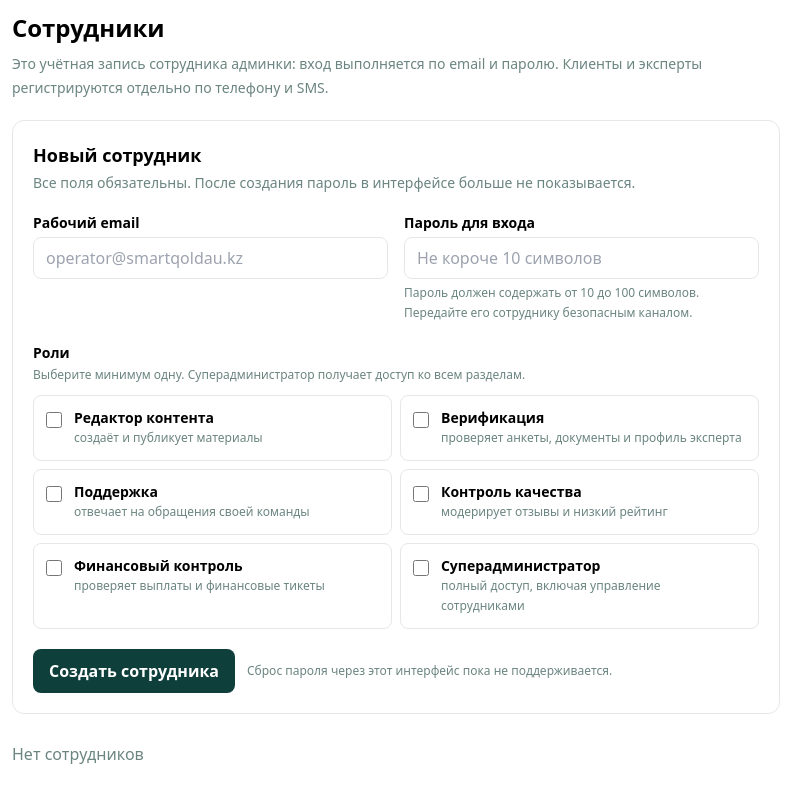
StaffPage › сообщает об успешном создании, если обновление списка не удалось, без повтора POST
Expected: the text "Нет сотрудников" is shown, [12,743,144,765]
Type "new@b.kz" into the field labelled "Рабочий email".
click(210, 258); type("new@b.kz")  # box [33,237,388,279]
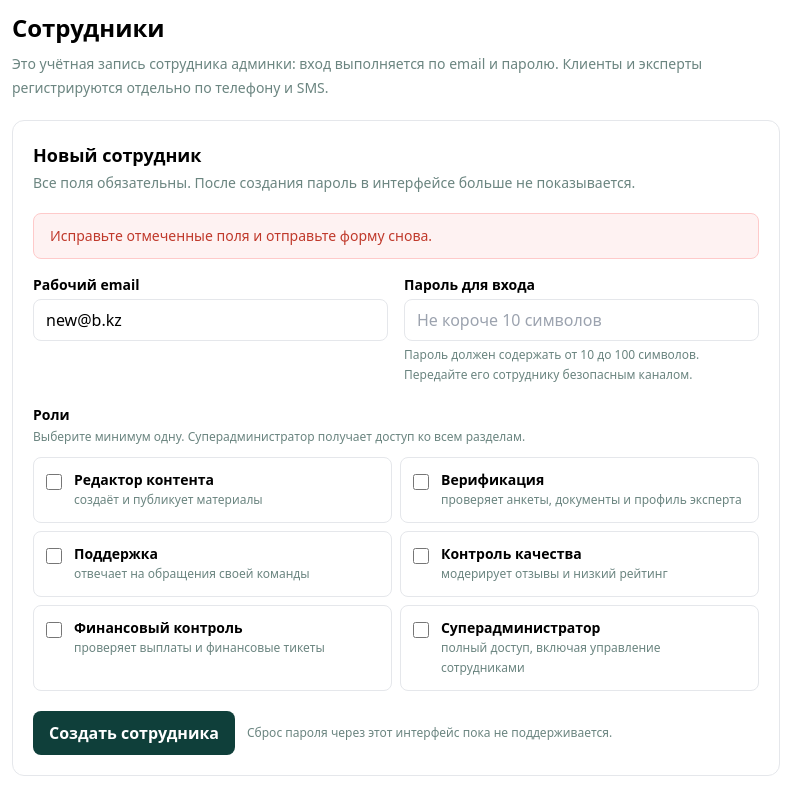
Type "0123456789" into the password field labelled "Пароль для входа".
click(582, 320); type("0123456789")  # box [404,299,759,341]
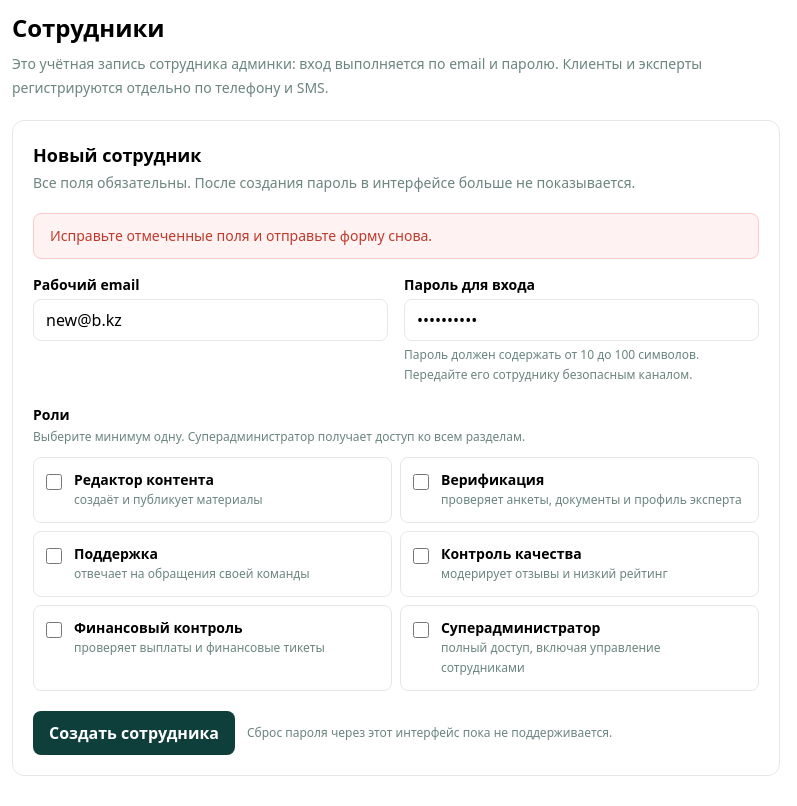
Click the checkbox labelled "Поддержка отвечает на обращения своей команды".
click(54, 556)  # box [46,548,62,564]
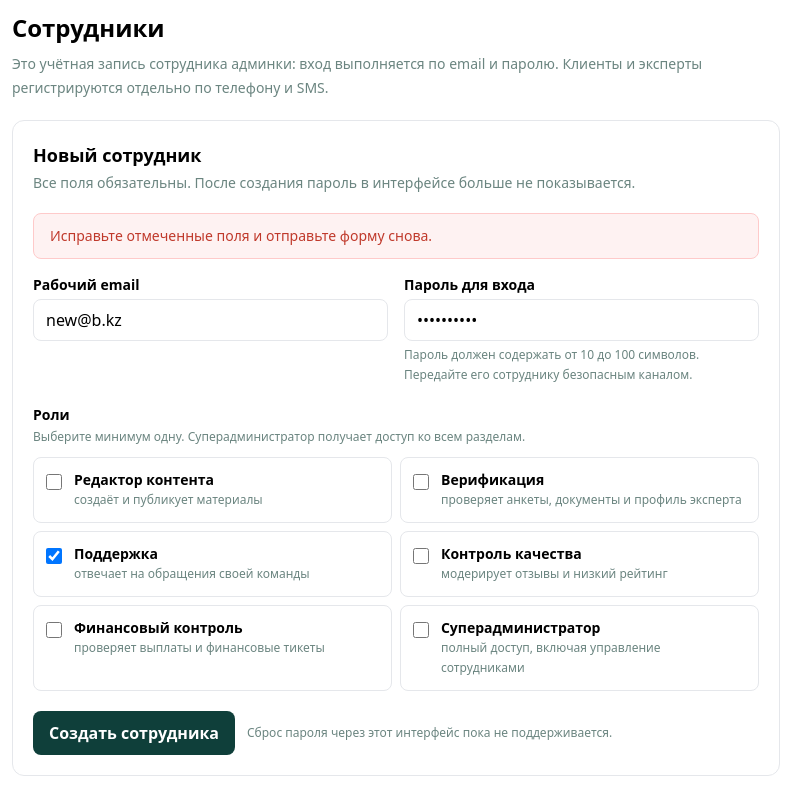
Click the button "Создать сотрудника".
click(134, 733)  # box [33,711,235,755]
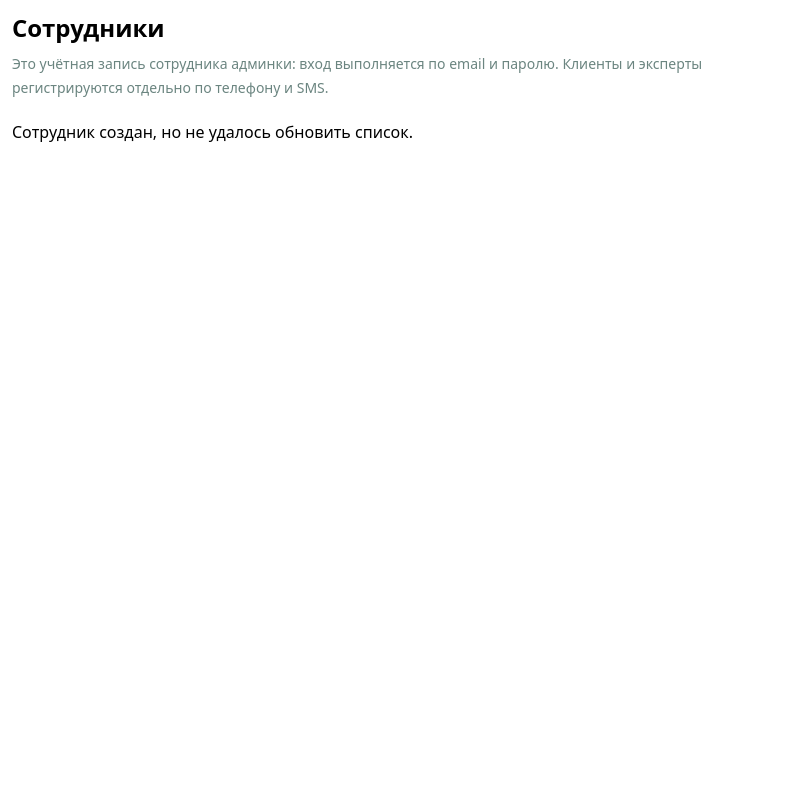
Result: the text "Сотрудник создан, но не удалось обновить список." is shown at [12,121,413,143]
